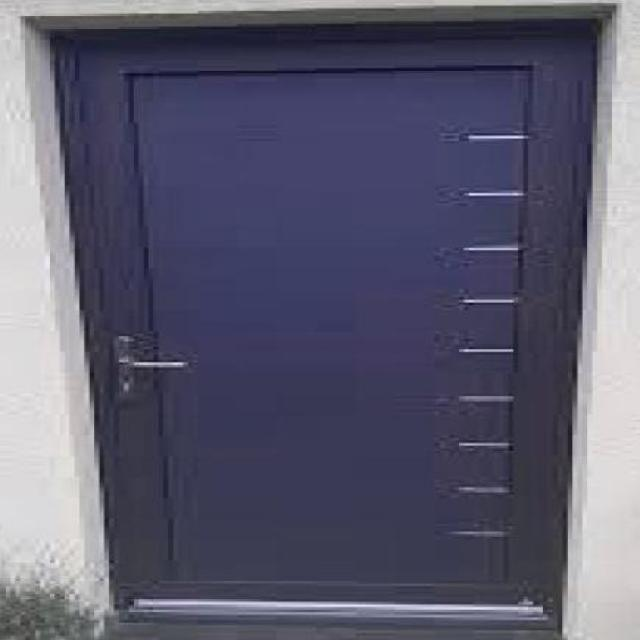door_handle: (108, 358, 197, 376)
